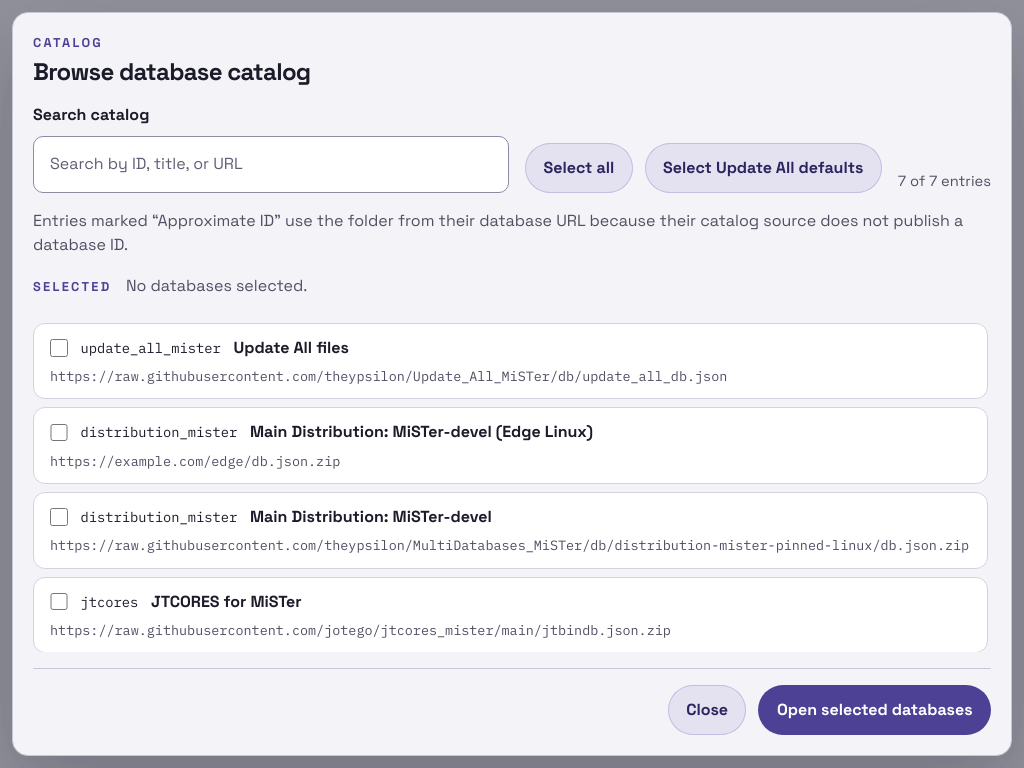
the catalog picker › searching narrows the list by db_id, title or URL
The image size is (1024, 768).
Step 1. Type "jotego" into the search field labelled "Search catalog" → (271, 164), box x1=33 y1=136 x2=509 y2=193
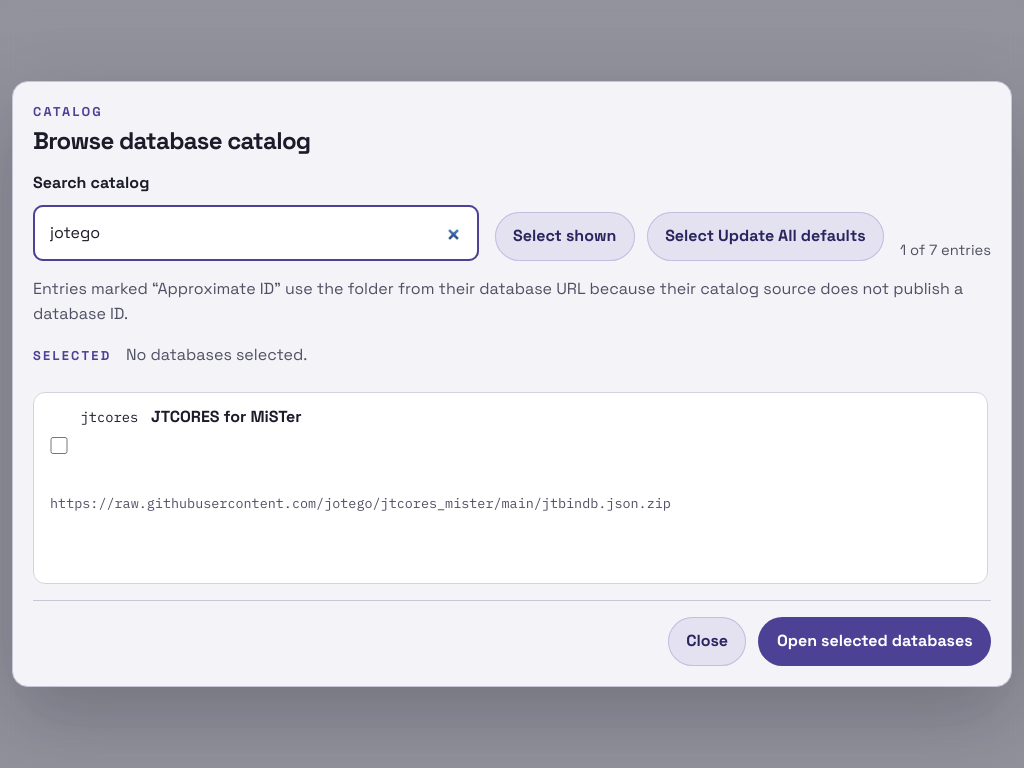
Check: the checkbox named "JTCORES for MiSTer (jtcores)" is shown, box x1=50 y1=437 x2=68 y2=454
Check: the dialog "Browse database catalog" shows "1 of 7 entries", box x1=900 y1=241 x2=991 y2=259
Check: the number of labels with class "catalog-option" is 1, box x1=33 y1=392 x2=988 y2=584
